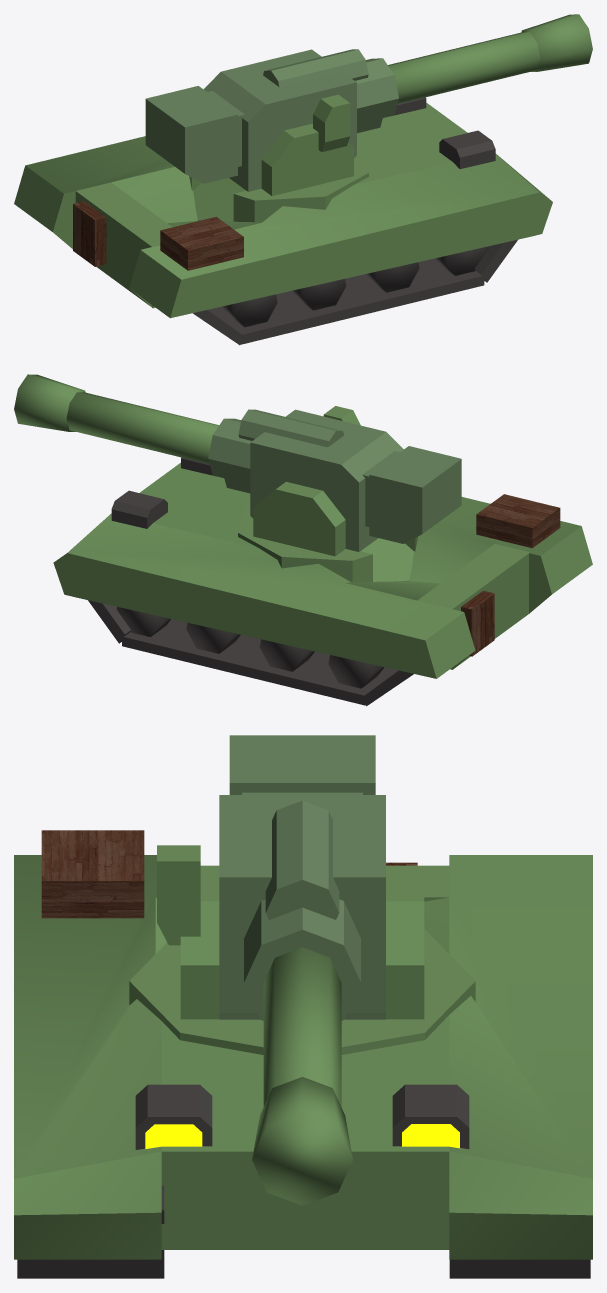
The model's file is TL_mortar_fix.glb.
3 renders of one model, top to bottom at view 1: azimuth 30°, elevation 25°; view 2: azimuth 150°, elevation 25°; view 3: azimuth 270°, elevation 25°, orthographic. The views are drawn at different scales.
Visible parts, largest first — view 1: Cube.007, Cube.003, Cylinder.010, Cylinder; view 2: Cube.007, Cube.003, Cylinder.010, Cylinder; view 3: Cube.007, Cube.003, Cylinder, Cylinder.010.
Boxes of the visible parts, x1,y1,x2,y2 form: Cube.007: (14,97,552,318); Cube.003: (145,14,592,191); Cylinder.010: (193,239,517,345); Cylinder: (189,94,368,222); Cube.007: (53,457,592,678); Cube.003: (14,374,461,551); Cylinder.010: (88,600,413,706); Cylinder: (238,406,418,582); Cube.007: (14,830,592,1259); Cube.003: (219,735,385,1205); Cylinder: (129,845,475,1054); Cylinder.010: (17,1185,590,1278).
Size of the model in its own units: 8.26 by 3.11 by 4.59.
Materials: 5 (1 with a texture image).
